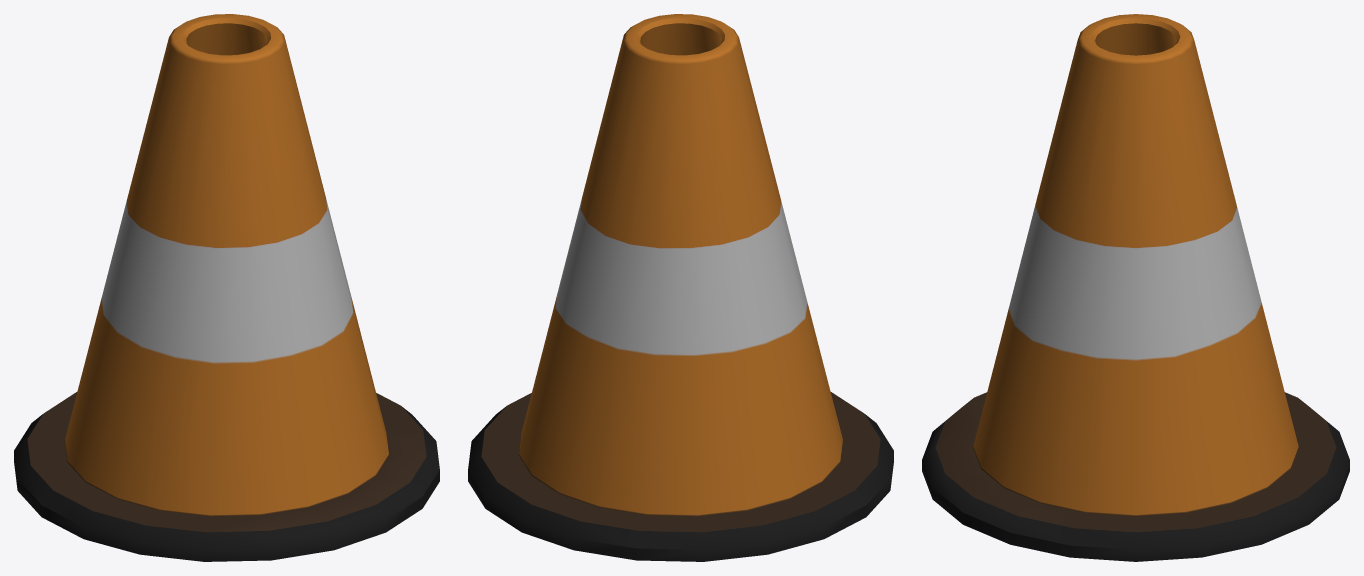
Rendered from Traffic Cone.fbx.
3 renders of one model, left to right at view 1: azimuth 30°, elevation 25°; view 2: azimuth 150°, elevation 25°; view 3: azimuth 270°, elevation 25°, orthographic.
Visible parts, largest first — view 1: pCylinder1; view 2: pCylinder1; view 3: pCylinder1.
Part boxes in pixels (x1=…): pCylinder1: x1=14, y1=14, x2=439, y2=561; pCylinder1: x1=468, y1=14, x2=893, y2=561; pCylinder1: x1=922, y1=14, x2=1349, y2=561.
Size of the model in its own units: 2 by 2.24 by 2.
Materials: 1 (1 with a texture image).
